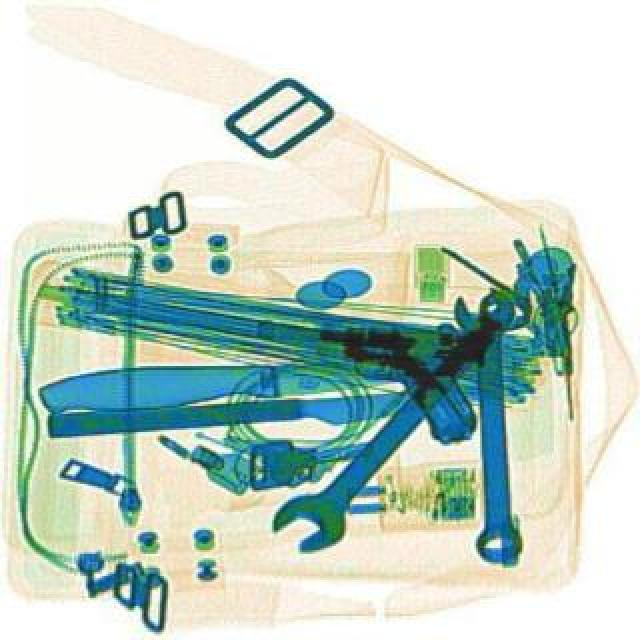gun: (250, 314, 494, 450)
knife: (52, 380, 518, 452), (42, 346, 478, 418)
scissors: (268, 276, 552, 568), (454, 288, 536, 568)
